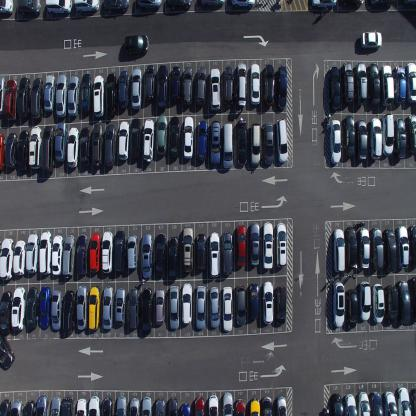car: (39, 124, 55, 173), (396, 280, 411, 326), (2, 78, 18, 121), (11, 285, 25, 333), (328, 64, 342, 112), (369, 226, 384, 270), (62, 289, 76, 336), (328, 118, 342, 165), (28, 124, 42, 170), (38, 230, 52, 275), (0, 289, 13, 337), (0, 237, 14, 281), (367, 62, 381, 106), (332, 228, 346, 272), (332, 281, 345, 328), (17, 76, 31, 119), (354, 61, 368, 104), (208, 231, 221, 277), (62, 233, 75, 279), (396, 223, 409, 269), (393, 64, 407, 106), (380, 64, 394, 106), (220, 230, 233, 275), (275, 118, 288, 163), (166, 236, 179, 281), (91, 123, 104, 168), (140, 286, 152, 334), (30, 76, 43, 120), (123, 33, 149, 55), (343, 114, 356, 158), (369, 116, 382, 160), (221, 122, 233, 169), (141, 233, 153, 280), (67, 74, 80, 117), (345, 225, 358, 268), (372, 282, 385, 325), (221, 285, 233, 331), (209, 66, 221, 112), (275, 222, 287, 268), (262, 280, 274, 326), (249, 121, 261, 167), (154, 231, 166, 277), (102, 284, 114, 330), (88, 285, 100, 331), (39, 284, 51, 330), (105, 71, 117, 117), (113, 230, 126, 272), (17, 129, 30, 171), (209, 120, 221, 165), (101, 229, 113, 274), (127, 286, 139, 331), (142, 118, 154, 163), (104, 123, 116, 168), (56, 73, 68, 118), (384, 227, 396, 272), (262, 221, 273, 270), (385, 284, 398, 325), (262, 63, 274, 107), (182, 116, 194, 160), (263, 122, 275, 166), (182, 226, 193, 274), (208, 285, 220, 329), (26, 286, 38, 330), (92, 74, 104, 118), (196, 119, 208, 162), (80, 72, 92, 115), (394, 117, 406, 160), (342, 61, 354, 104), (0, 336, 15, 370), (236, 62, 247, 108), (276, 64, 287, 110), (76, 284, 87, 330), (89, 232, 101, 274), (76, 233, 88, 275), (26, 232, 38, 274), (67, 126, 79, 168), (54, 120, 66, 162), (358, 227, 370, 269), (359, 280, 371, 322), (157, 64, 168, 109), (4, 130, 17, 168), (51, 289, 63, 330), (346, 288, 358, 329), (249, 221, 260, 265), (181, 282, 192, 326), (130, 116, 141, 160), (195, 66, 207, 106), (237, 118, 247, 166), (51, 234, 63, 274), (114, 286, 126, 326), (118, 120, 130, 160), (117, 69, 129, 109), (235, 224, 246, 267), (131, 67, 142, 110), (356, 119, 367, 162), (275, 286, 287, 325), (196, 284, 206, 330), (13, 238, 25, 276), (382, 113, 393, 154), (156, 112, 166, 157), (169, 285, 179, 330), (143, 63, 155, 100), (250, 62, 260, 106), (236, 283, 246, 327), (44, 73, 55, 113), (405, 60, 415, 104), (182, 65, 192, 108), (406, 113, 416, 156), (249, 281, 260, 320), (169, 116, 179, 158), (223, 65, 233, 107), (44, 0, 72, 15), (396, 386, 410, 416), (170, 65, 181, 103), (127, 233, 138, 271), (360, 30, 382, 49), (17, 0, 41, 17), (80, 126, 90, 166), (196, 232, 206, 271), (155, 287, 165, 325), (369, 390, 384, 415), (329, 392, 344, 416), (408, 224, 416, 268), (102, 0, 129, 13), (384, 390, 398, 415), (356, 390, 370, 415), (59, 394, 75, 415), (343, 393, 358, 415), (73, 0, 100, 12), (166, 0, 193, 11), (409, 276, 416, 317), (36, 394, 49, 416), (222, 390, 233, 415), (9, 398, 24, 416), (115, 394, 127, 416), (207, 394, 219, 416), (22, 398, 36, 416), (88, 394, 100, 415), (0, 132, 6, 173), (261, 394, 272, 416), (0, 76, 6, 116), (136, 0, 162, 9), (50, 396, 62, 415), (100, 396, 112, 415), (0, 0, 14, 16), (141, 395, 152, 415), (276, 394, 286, 416), (75, 397, 87, 415), (154, 398, 166, 416), (193, 397, 205, 415), (310, 0, 337, 8), (366, 0, 392, 8), (0, 398, 12, 415), (167, 397, 178, 415), (234, 397, 245, 415), (249, 397, 260, 415), (340, 0, 364, 8), (231, 0, 255, 8), (129, 397, 139, 415), (201, 0, 225, 7), (410, 388, 416, 415), (180, 402, 190, 416), (402, 0, 416, 6)
